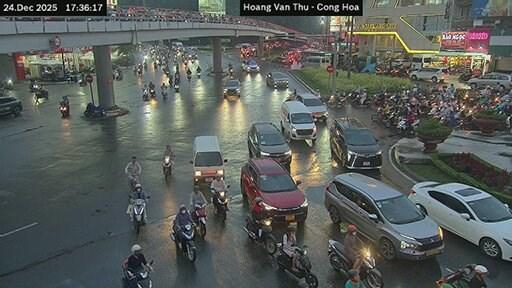motorbike: (278, 243, 316, 287), (243, 212, 275, 252), (359, 247, 383, 287), (170, 224, 195, 261), (435, 264, 474, 287), (329, 239, 352, 277), (211, 184, 229, 220), (131, 198, 144, 234), (192, 202, 205, 237), (397, 116, 419, 135), (131, 270, 152, 287), (83, 104, 105, 116), (121, 259, 130, 287), (163, 154, 172, 178), (34, 86, 48, 99), (58, 100, 69, 116), (128, 175, 137, 193), (3, 77, 12, 89), (29, 81, 38, 90), (141, 90, 149, 99), (114, 70, 121, 80), (160, 89, 166, 98), (163, 67, 169, 76), (227, 67, 233, 76), (79, 77, 85, 85), (173, 82, 179, 90), (186, 73, 191, 81), (150, 88, 154, 97), (137, 67, 141, 76), (143, 62, 147, 70), (195, 68, 198, 77), (153, 62, 156, 70), (150, 261, 153, 265)
